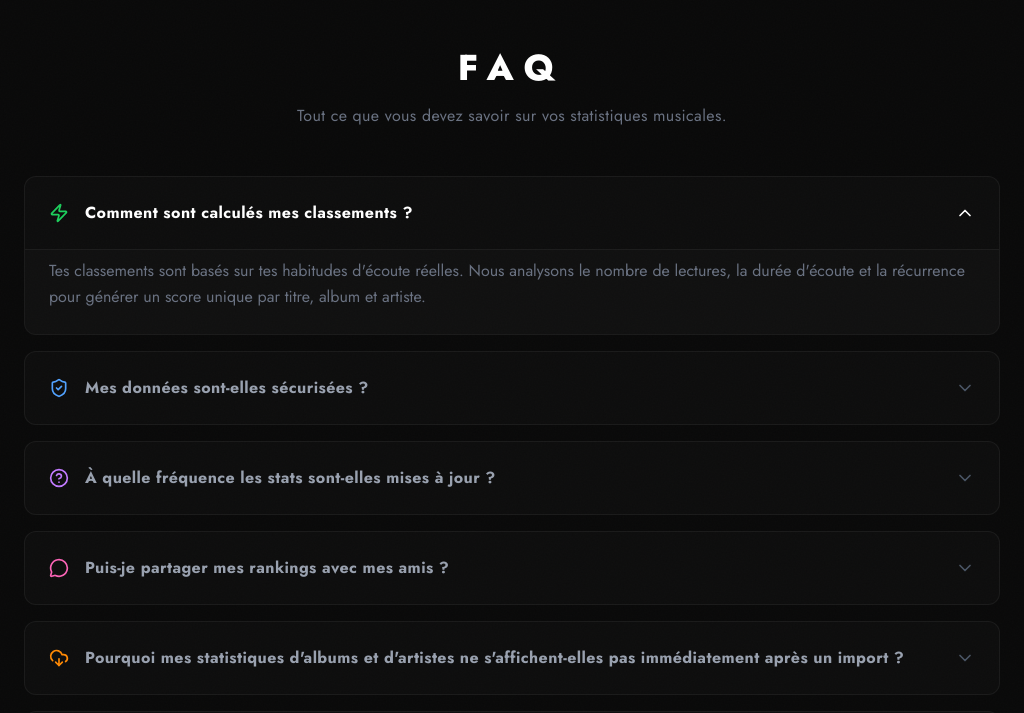
Test case: FAQPage › referme la question ouverte quand on clique de nouveau dessus
Click the button "Comment sont calculés mes classements ?".
click(249, 212)  # box [25,177,999,249]
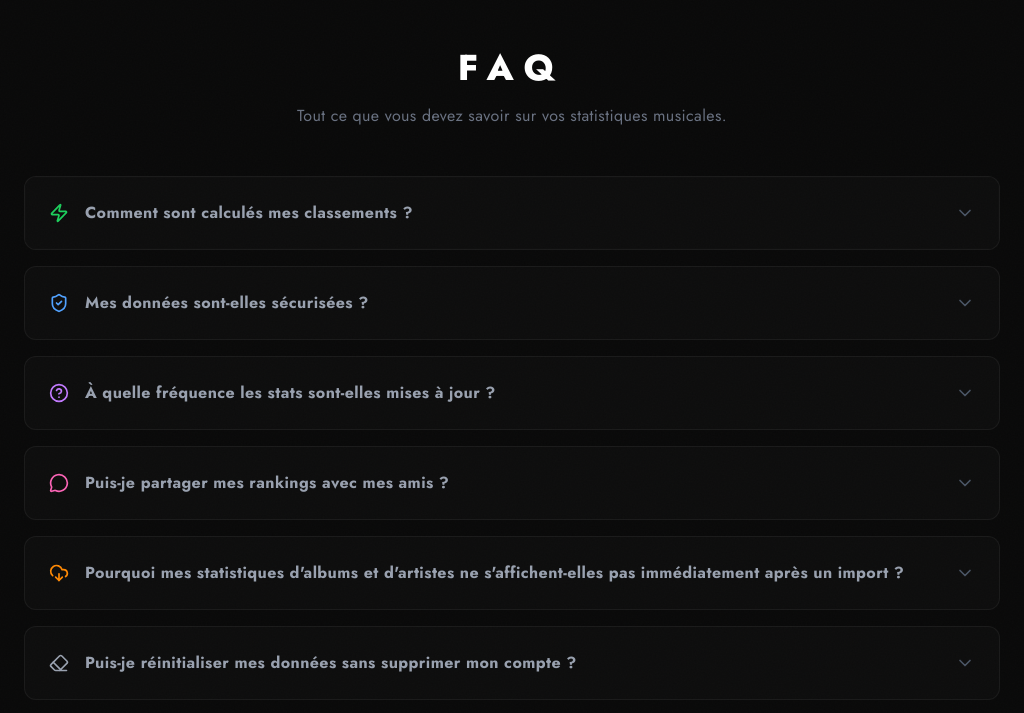
Now the button "Comment sont calculés mes classements ?" is collapsed, box [25,177,999,249]
